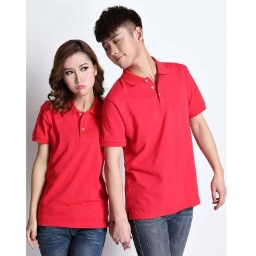face: (93, 5, 147, 71), (50, 40, 104, 100)
